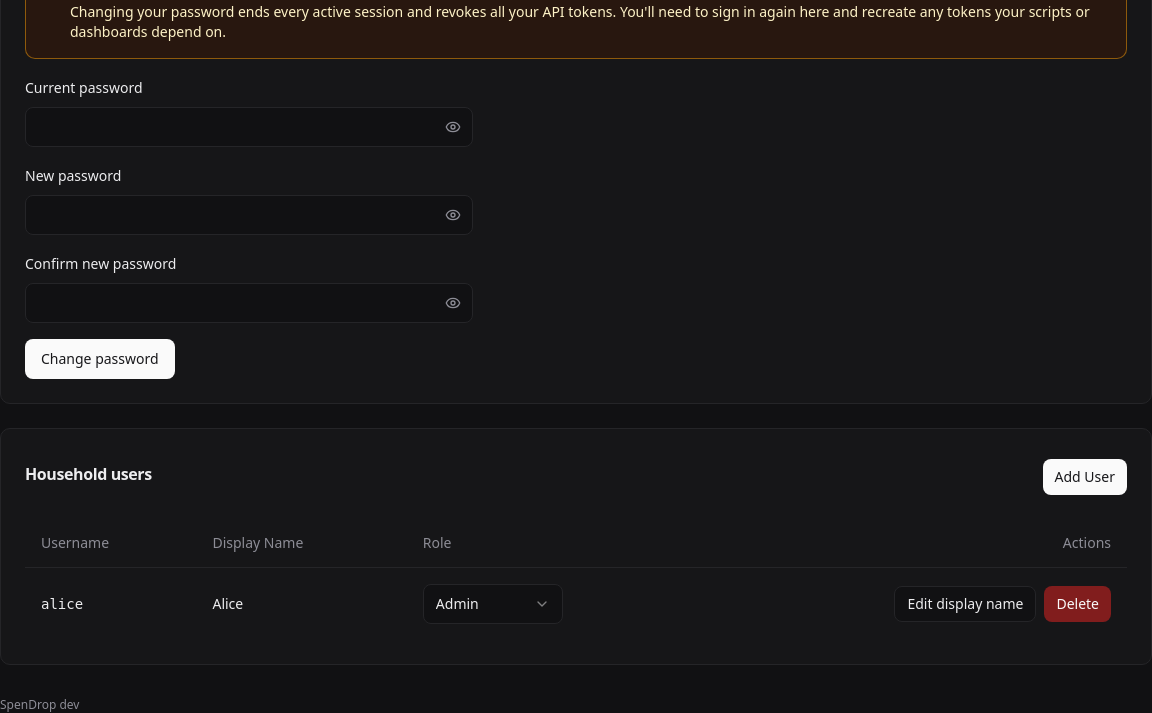
Test case: Settings › as admin › display name editor › deletes nothing when the confirmation is cancelled
(page scrolled)
Step 1. Click the button with aria-label "delete alice" → (1078, 604), box [1044,586,1111,622]
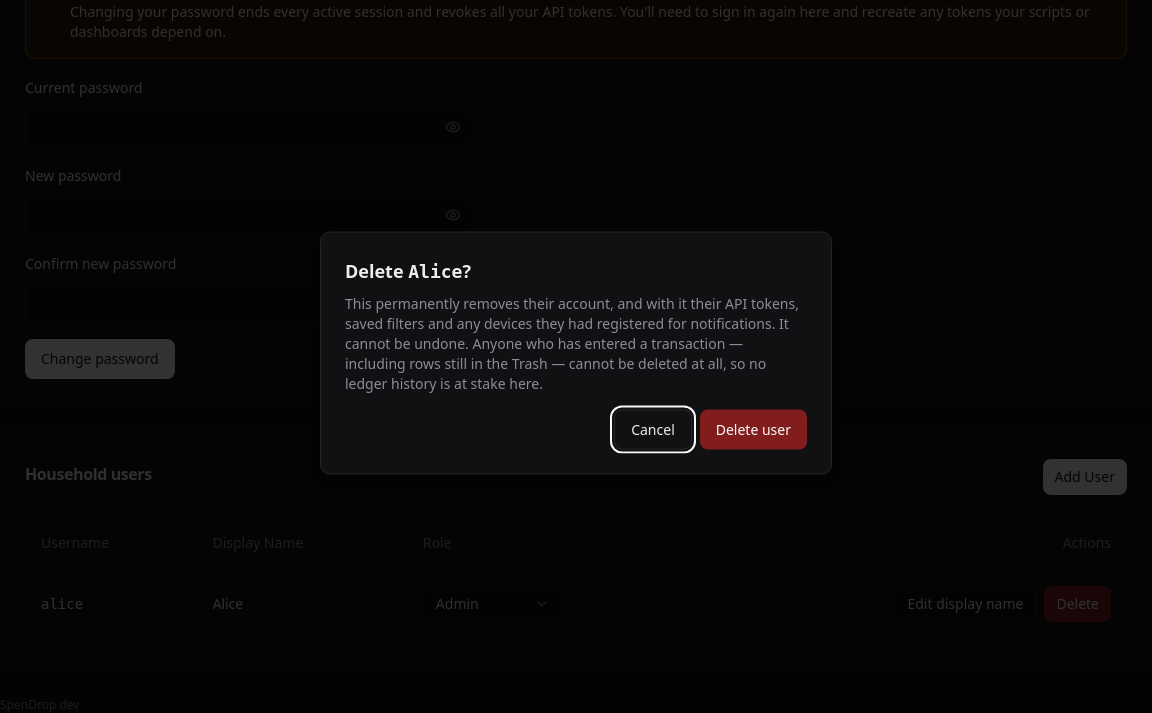
Step 2. Click the button "Cancel" → (653, 430), box [614,410,692,450]
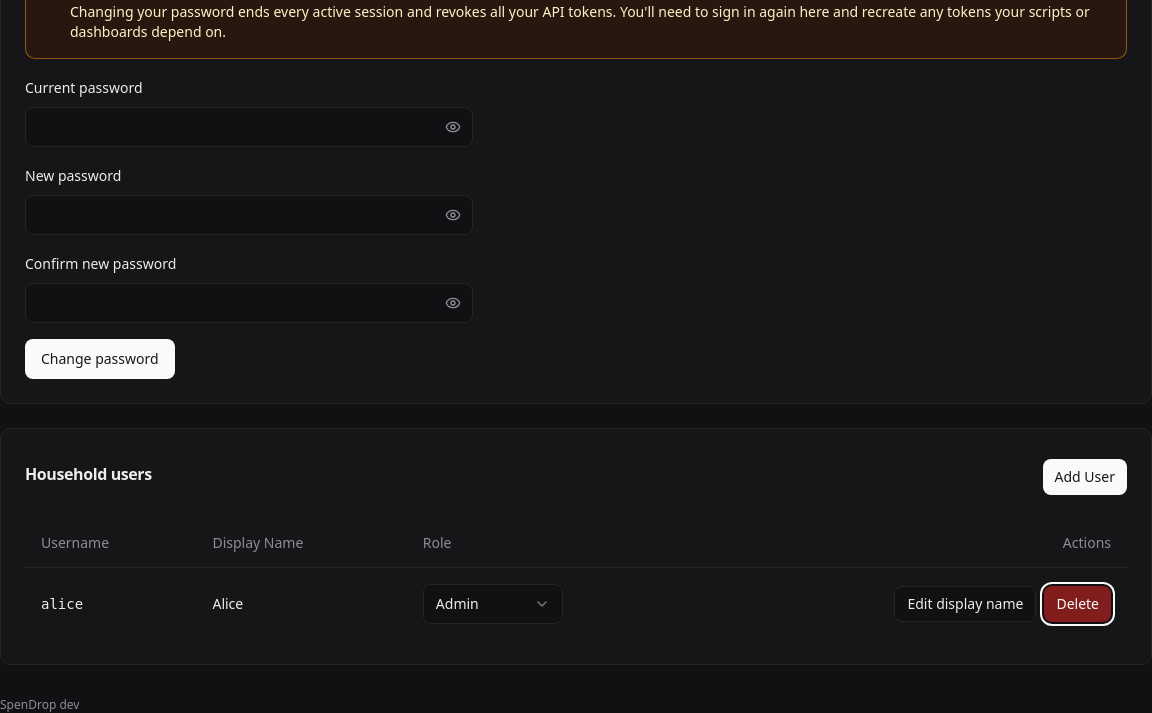
Now the dialog is gone
